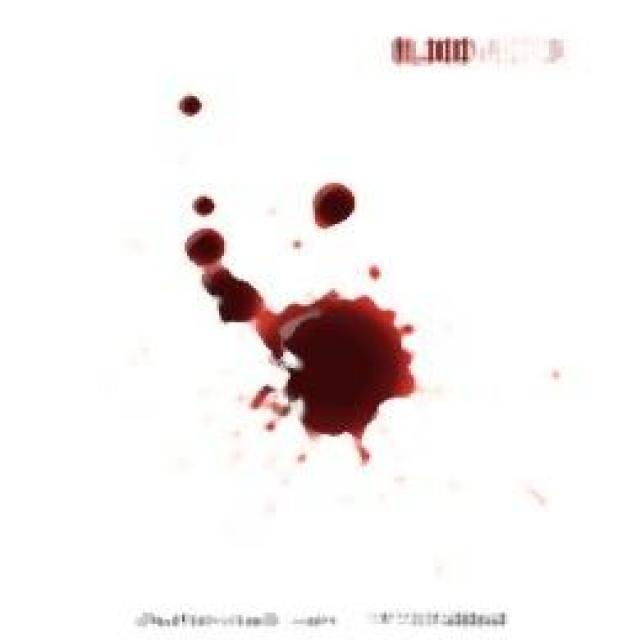flood: (180, 228, 424, 462)
